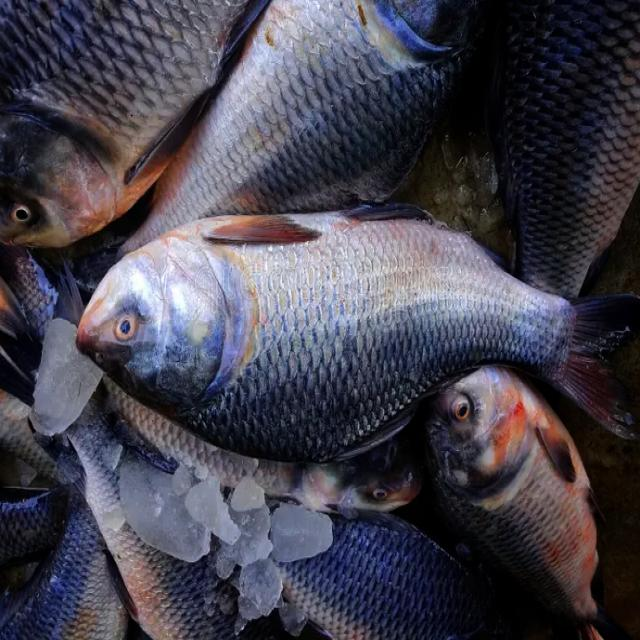Catla: (75, 202, 640, 464)
